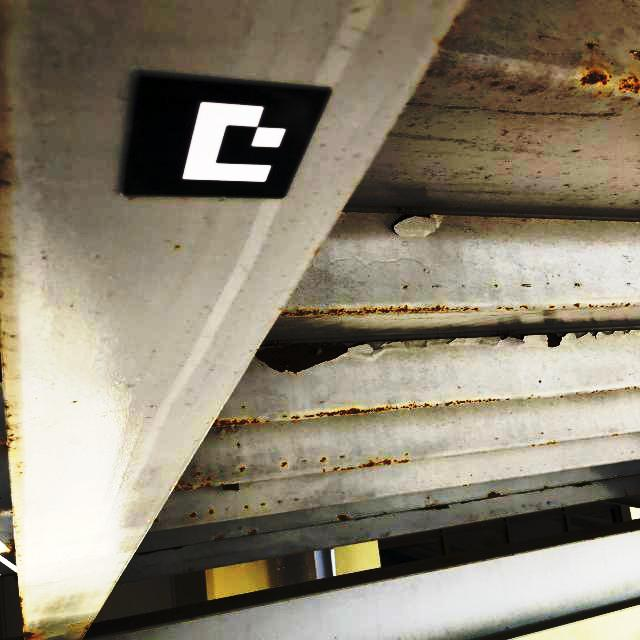Corrosion: (302, 398, 501, 418), (255, 337, 354, 376), (282, 305, 481, 318), (389, 205, 436, 235), (332, 458, 411, 471), (575, 68, 611, 84), (210, 418, 260, 429), (171, 481, 214, 493), (589, 385, 637, 394), (494, 328, 526, 341), (620, 75, 640, 95), (543, 334, 566, 348), (414, 504, 450, 510), (536, 441, 557, 446), (488, 491, 501, 498), (339, 514, 350, 522), (214, 536, 225, 543), (248, 530, 256, 537), (320, 458, 327, 464), (589, 42, 596, 48), (587, 306, 608, 308), (635, 50, 640, 58), (572, 304, 582, 308), (505, 308, 514, 312), (281, 463, 288, 468), (239, 467, 244, 474), (519, 305, 530, 308), (292, 416, 299, 420), (190, 513, 195, 518), (210, 510, 214, 516), (550, 306, 556, 310), (626, 304, 632, 308), (261, 504, 266, 508), (244, 506, 248, 510)
